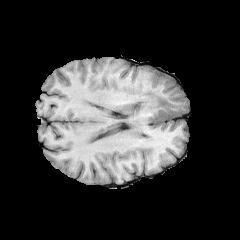glioma: (124, 87, 188, 131)
